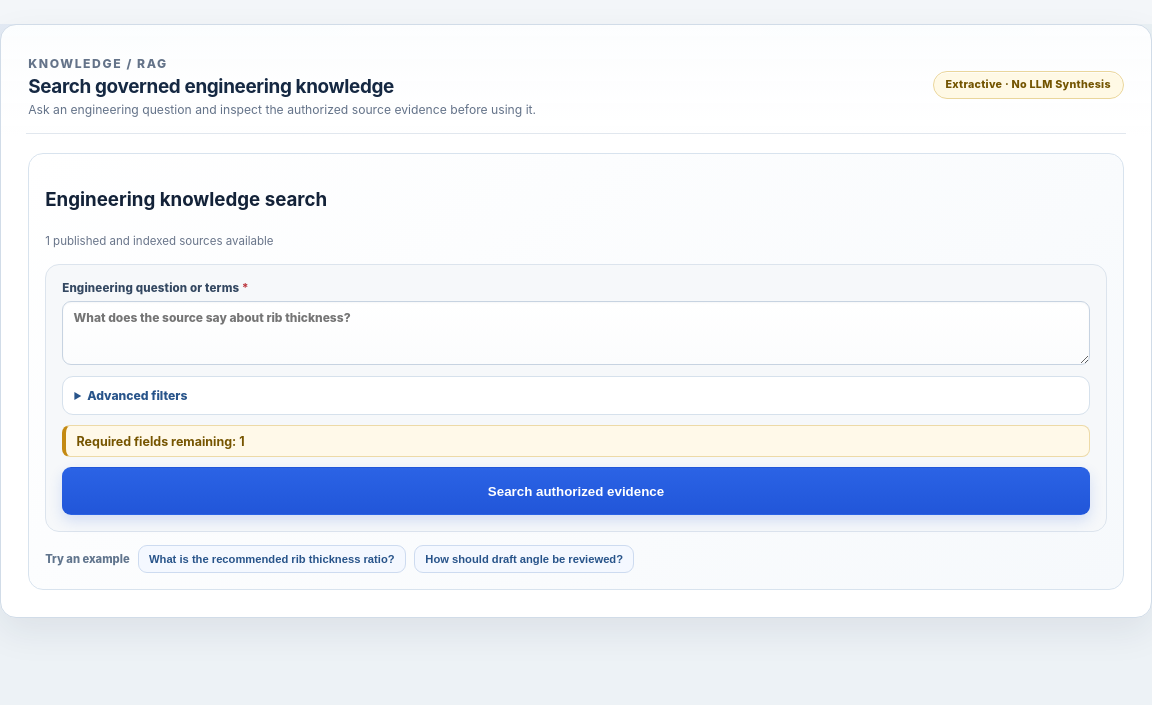
Test case: KnowledgeSearchWorkspace › retrieves extractive evidence with a protected versioned citation
Type "rib thickness" into the text box labelled "Engineering question or terms *". click: [576, 333]
box: [62,301,1090,365]
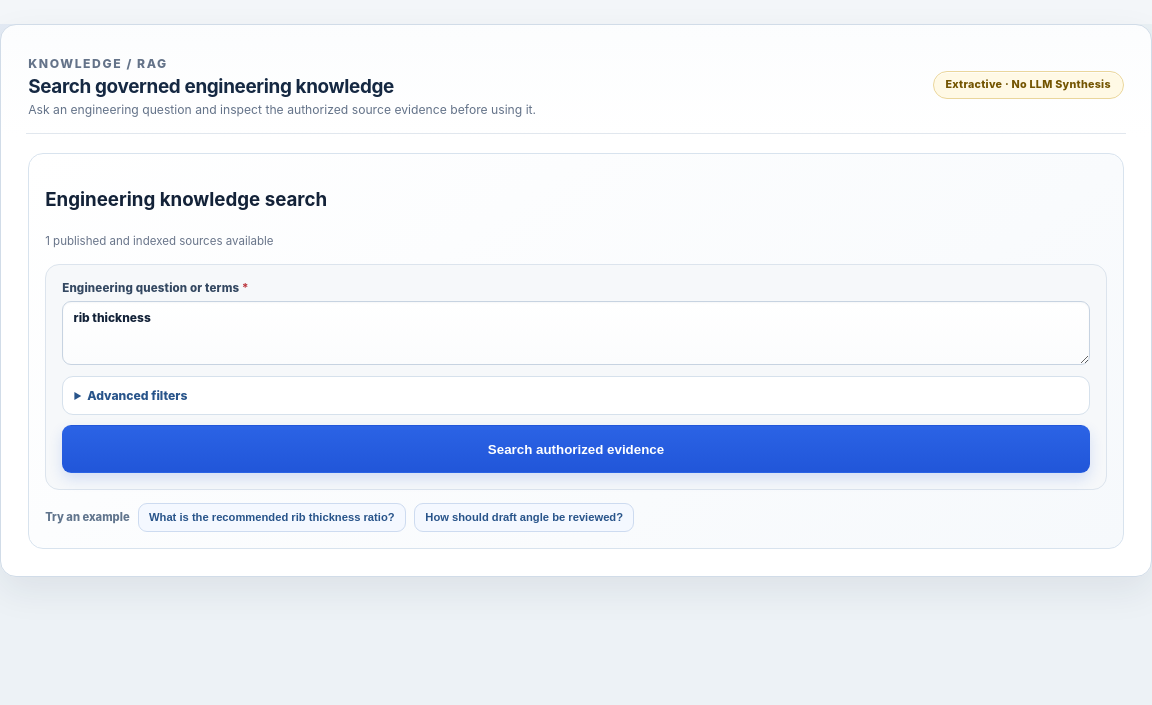
Submit the form with class "knowledge-search-form", box [45,264,1107,490]
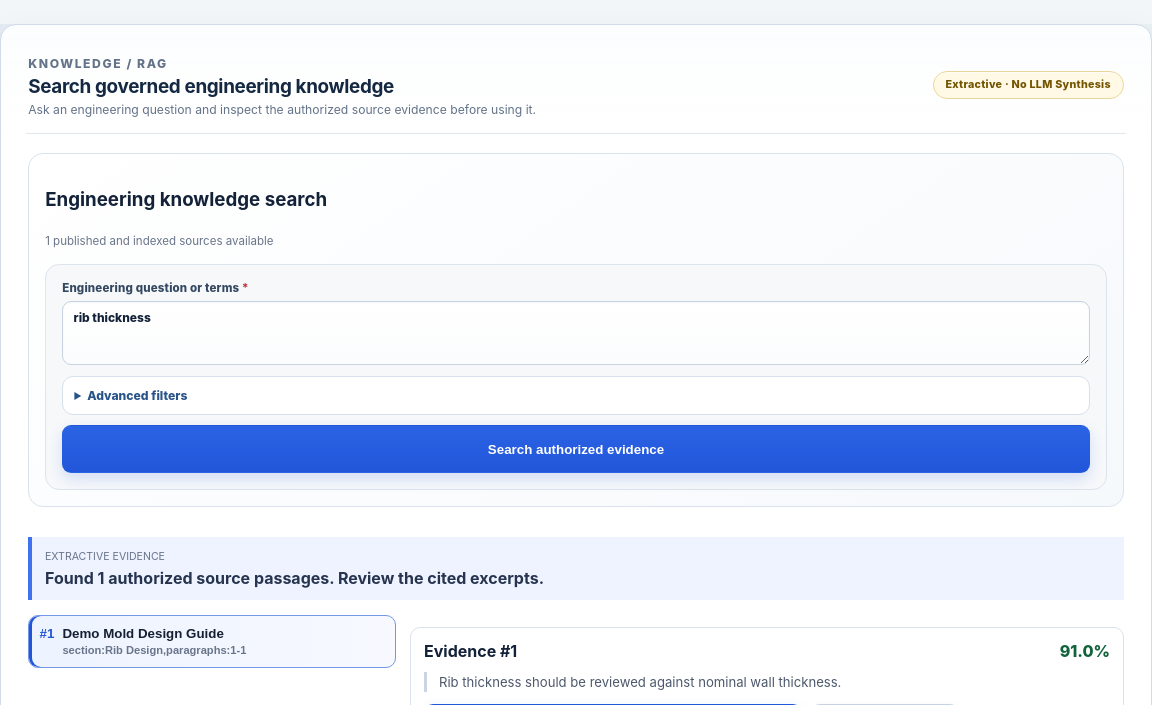
Check: the text "Found 1 authorized source passages" is shown, box [45,568,544,588]
Check: the text "Rib thickness should be reviewed" is shown, box [439,674,841,690]
Check: the text "section:Rib Design,paragraphs:1-1" is shown, box [62,644,246,656]
